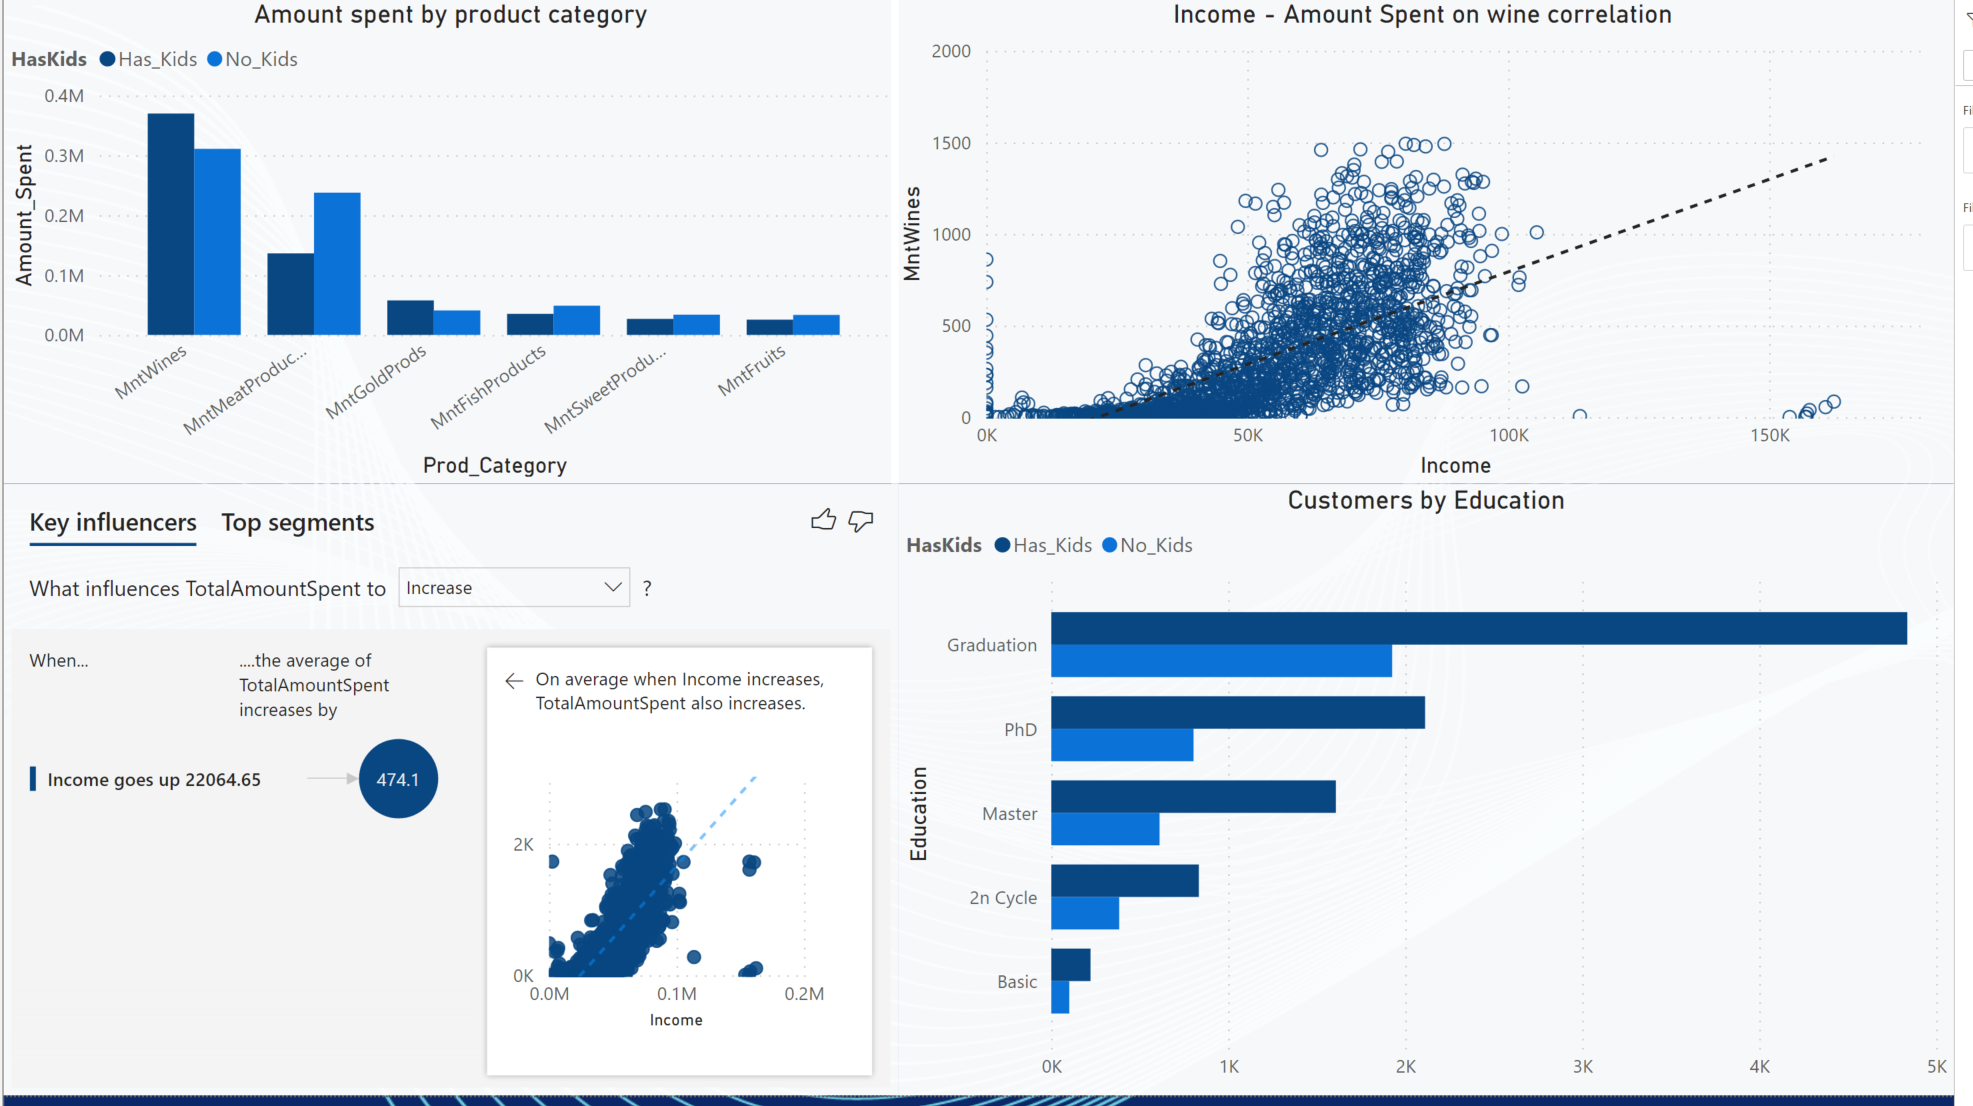

The dashboard page shown, as its layout file describes it:
{"tool":"powerbi","page":{"name":"Buying Patterns","canvas":[1280,720],"ordinal":1},"visuals":[{"type":"scatterChart","title":"Income - Amount Spent on wine correlation","fields":{"Y":["marketing_data_prepared.MntWines"],"X":["marketing_data_prepared.Income"]},"box":[582.6,0,697.4,318.9],"z":0},{"type":"keyDriversVisual","fields":{"Target":["marketing_data_prepared.TotalAmountSpent"],"ExplainBy":["Sum(marketing_data_prepared.Income)"]},"box":[0,319.1,587.3,401.2],"z":1000},{"type":"clusteredColumnChart","title":"Amount spent by product category","fields":{"Y":["Sum(product_category_view.Amount_Spent)"],"Category":["product_category_view.Prod_Category"],"Series":["product_category_view.HasKids"]},"box":[0,0,587.2,318.9],"z":2000},{"type":"clusteredBarChart","title":"Customers by Education","fields":{"Category":["product_category_view.Education","product_category_view.Prod_Category"],"Y":["CountNonNull(product_category_view.ID)"],"Series":["product_category_view.HasKids"]},"box":[587,319,693,401],"z":3000}]}

Visuals, with their boxes in screenshot pixels (x1, y1, x2, y2), scaled from the page's 1280x720 canvas onto the 1973x1106 screenshot:
"Income - Amount Spent on wine correlation" scatterChart: {"left": 898, "top": 0, "right": 1972, "bottom": 490}
keyDriversVisual - marketing_data_prepared.TotalAmountSpent x Sum(marketing_data_prepared.Income): {"left": 0, "top": 490, "right": 905, "bottom": 1105}
"Amount spent by product category" clusteredColumnChart: {"left": 0, "top": 0, "right": 905, "bottom": 490}
"Customers by Education" clusteredBarChart: {"left": 905, "top": 490, "right": 1972, "bottom": 1105}
